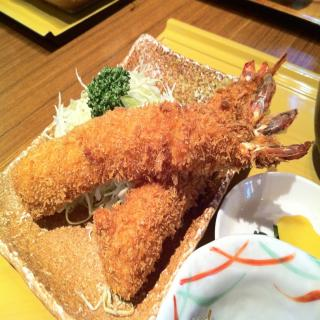Broccoli: (86, 64, 130, 118)
